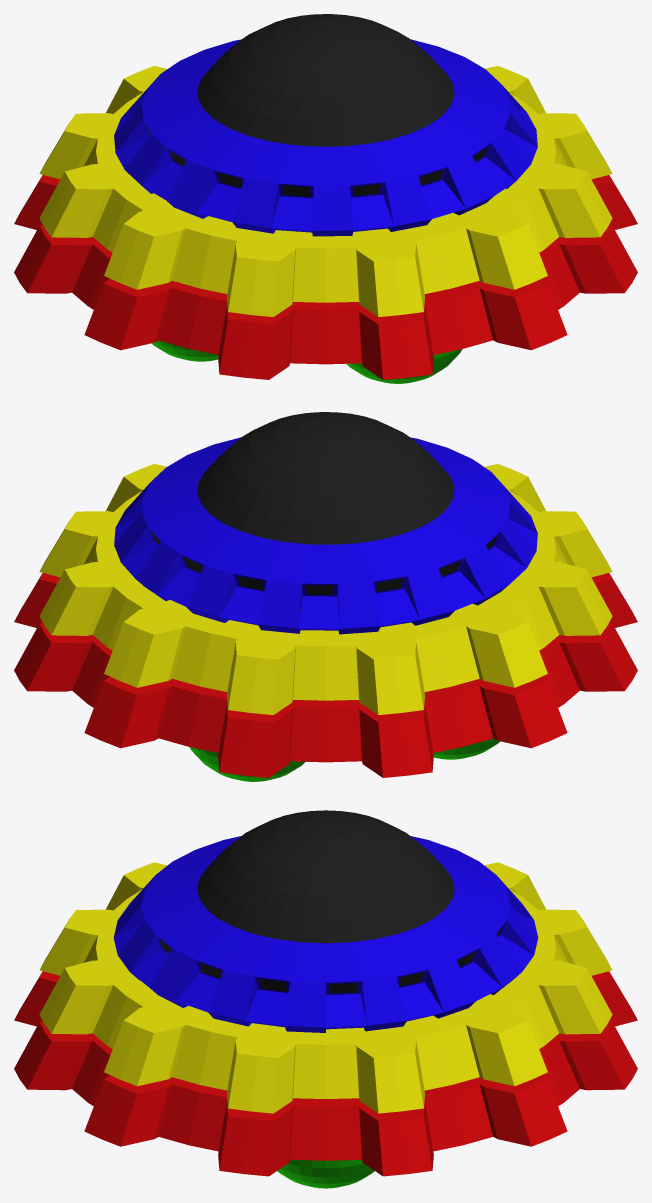
Rendered from MacroTechBFO.fbx.
The picture shows the model from 3 angles, top to bottom: view 1: azimuth 30°, elevation 25°; view 2: azimuth 150°, elevation 25°; view 3: azimuth 270°, elevation 25°; orthographic projection.
Visible parts, largest first — view 1: Main, Gear1, Gear2, Sphere; view 2: Main, Gear1, Gear2, Sphere; view 3: Main, Gear1, Gear2, Sphere.
Part boxes in pixels (<box>): Main: <box>114,14,537,236</box>; Gear1: <box>39,66,612,316</box>; Gear2: <box>14,175,637,379</box>; Sphere: <box>151,340,462,383</box>; Main: <box>114,412,537,634</box>; Gear1: <box>39,464,612,714</box>; Gear2: <box>14,573,637,777</box>; Sphere: <box>189,738,500,781</box>; Main: <box>113,810,538,1032</box>; Gear1: <box>39,862,612,1113</box>; Gear2: <box>14,971,637,1176</box>; Sphere: <box>277,1160,374,1188</box>.
Bounding box in the file's own units: 794 × 415 × 794.
